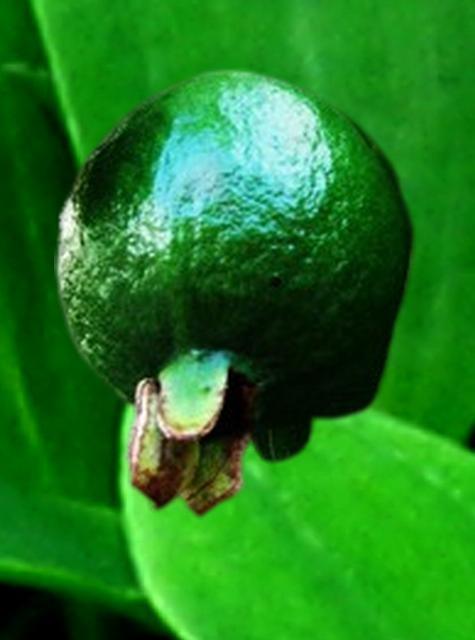guava: (54, 65, 417, 518)
